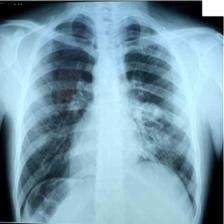tuberculosis: (14, 8, 201, 224)
